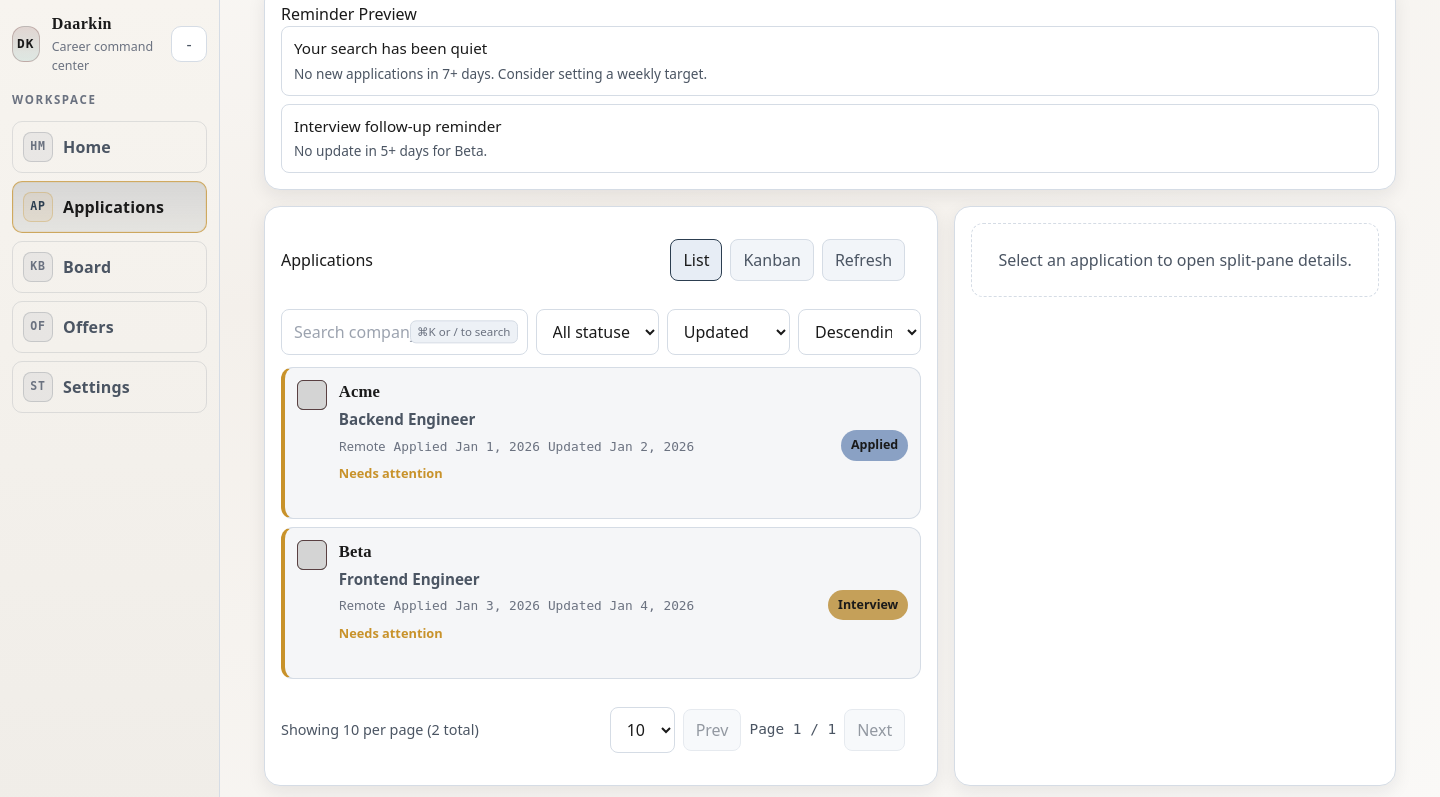
Test: Dashboard interactions › updates status and shows success prompt when optimistic update succeeds
This screenshot has width=1440, height=797.
(page scrolled)
What coordinates should you click on to do the following:
click the button "Applied"
I would click on:
 (875, 445)
Its box is [841, 430, 908, 460].
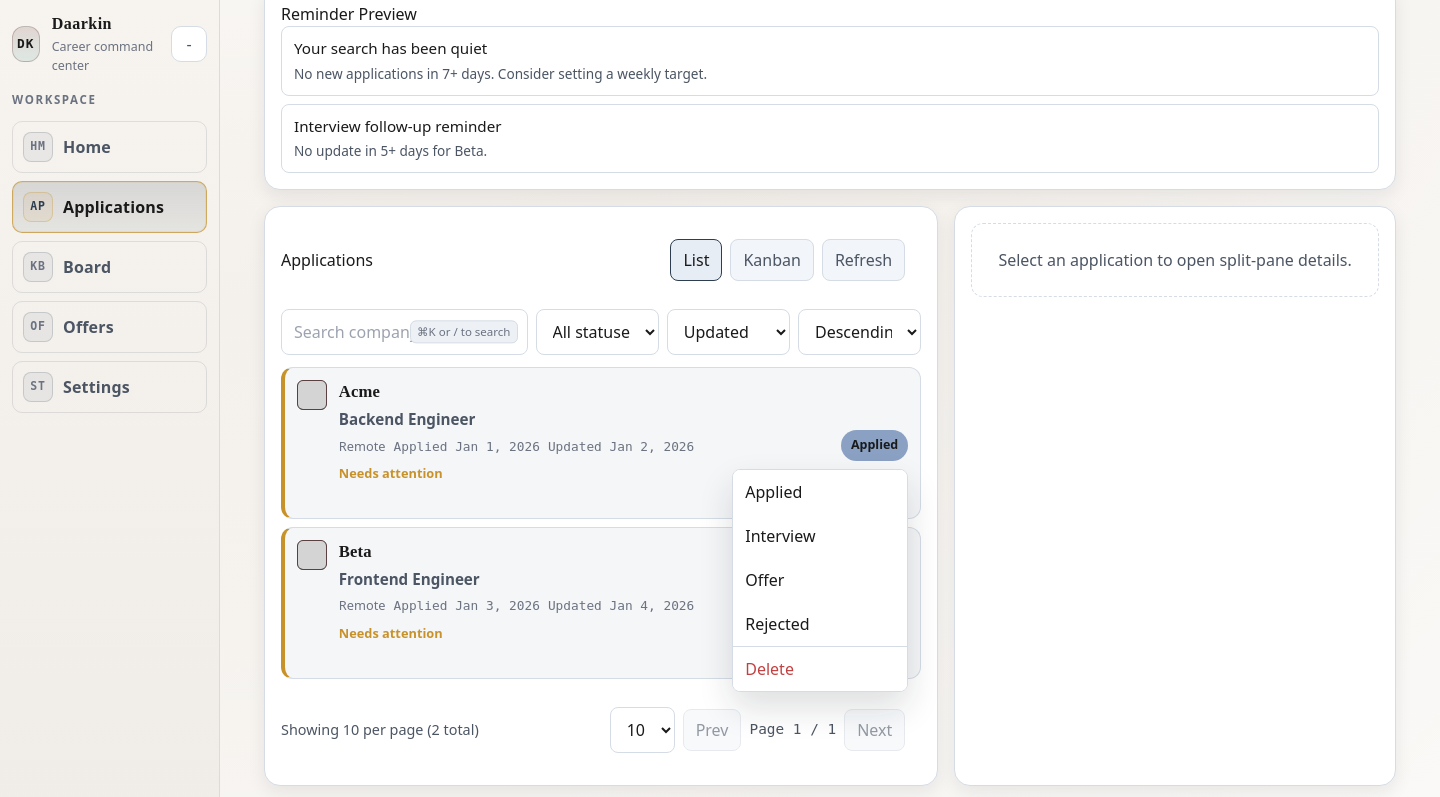
What coordinates should you click on to do the following:
click the button "Interview"
I would click on:
 (820, 536)
Its box is [733, 514, 907, 558].
(page scrolled)
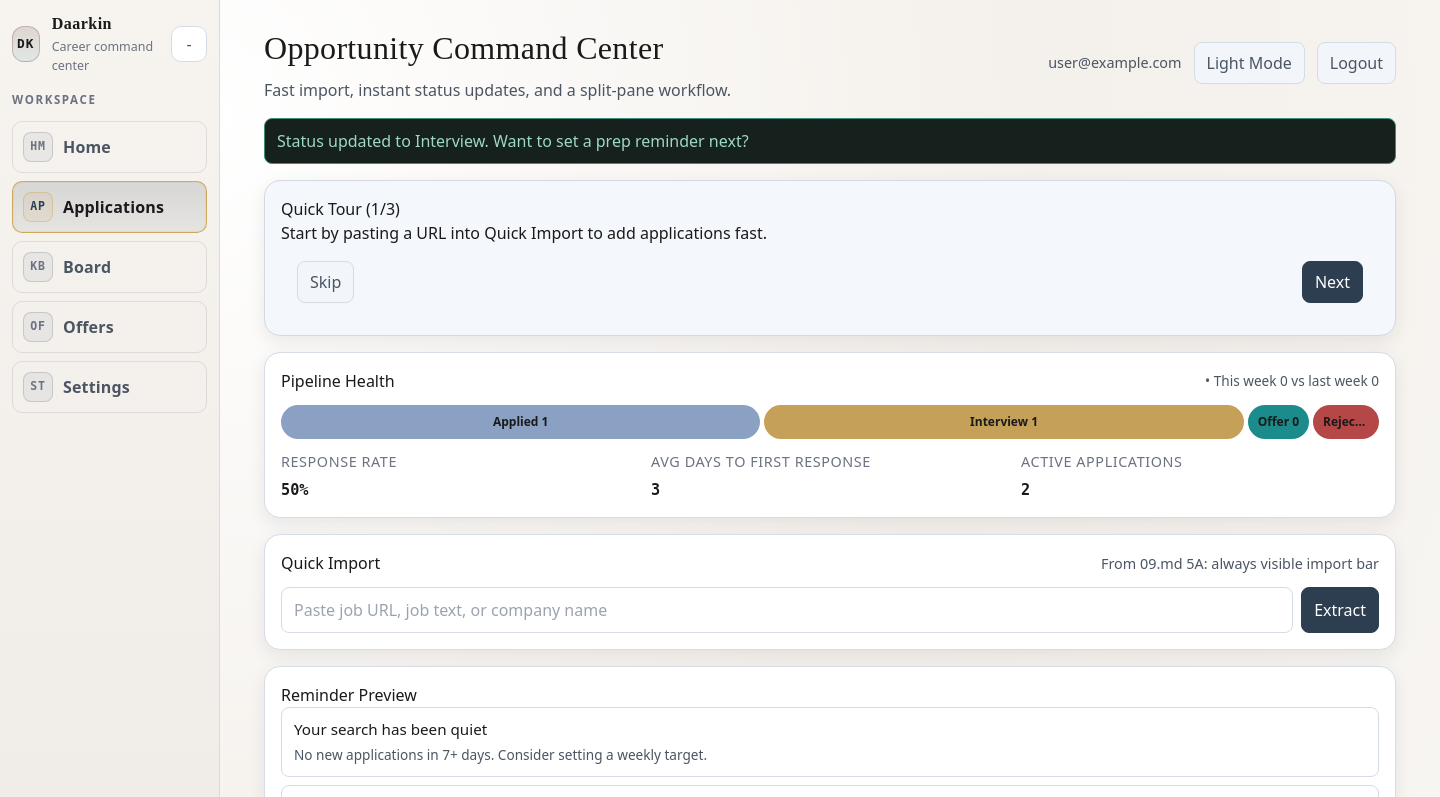
Check: the text "Status updated to Interview. Want to set a prep reminder next?" is shown, box [264, 118, 1396, 164]
